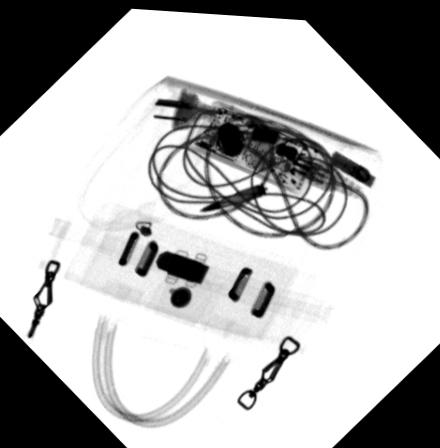Bullet: (196, 177, 265, 209)
